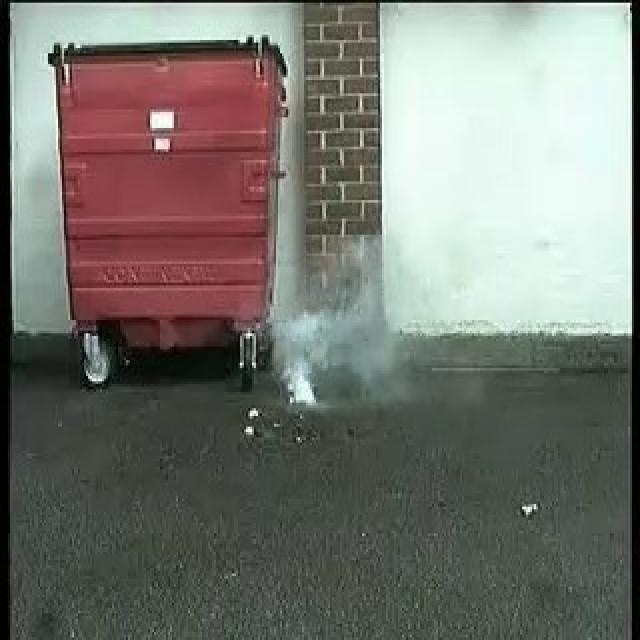smoke: (278, 273, 384, 407)
